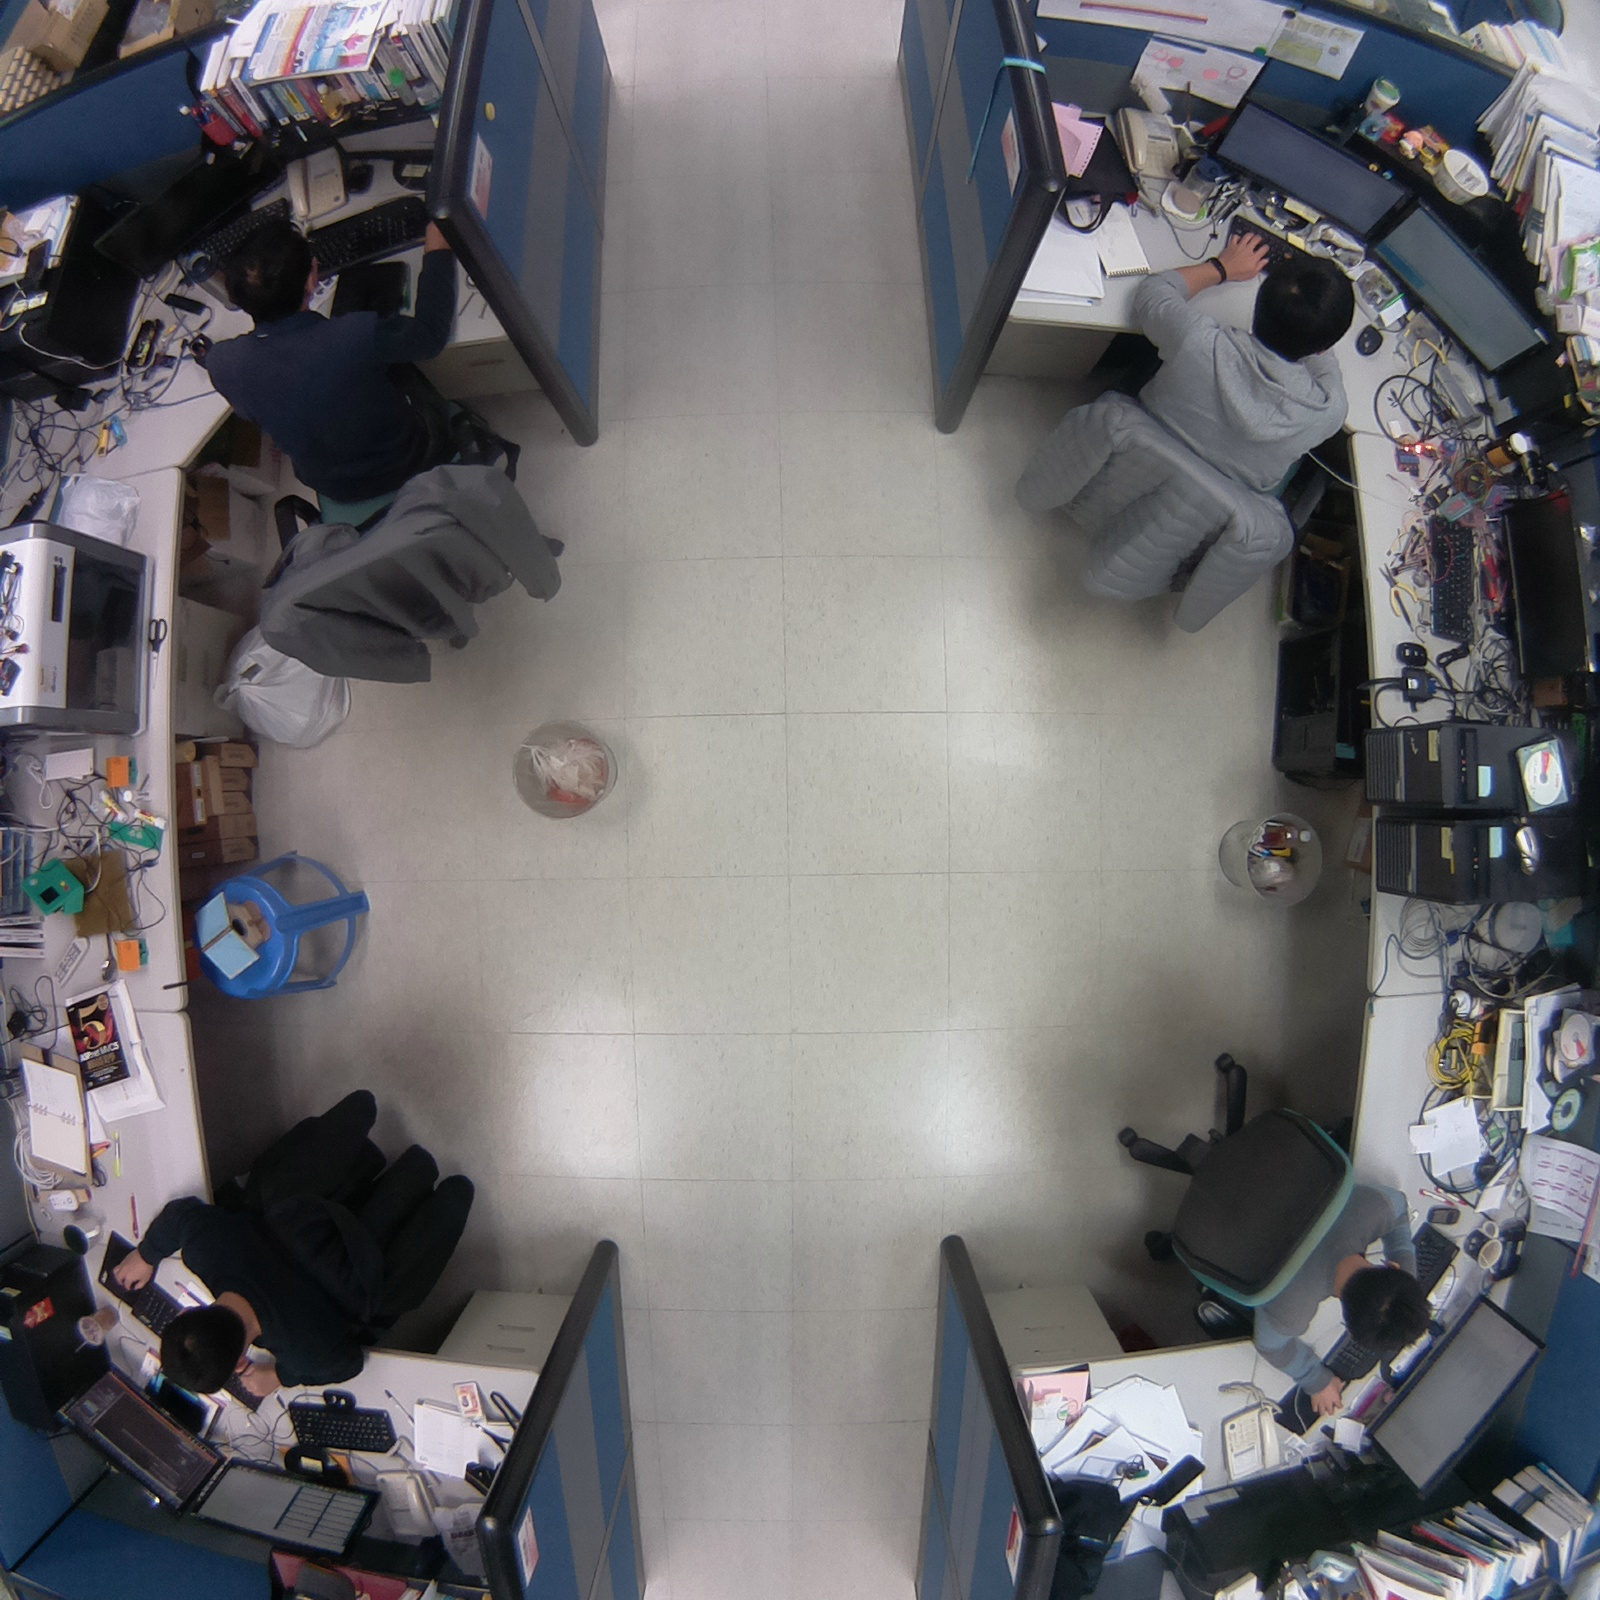head: (1249, 248, 1361, 363), (219, 221, 332, 323), (1336, 1259, 1442, 1363), (157, 1297, 259, 1397)
sitting: (186, 193, 591, 704), (991, 227, 1396, 645), (101, 1068, 509, 1411), (1109, 1040, 1445, 1419)
